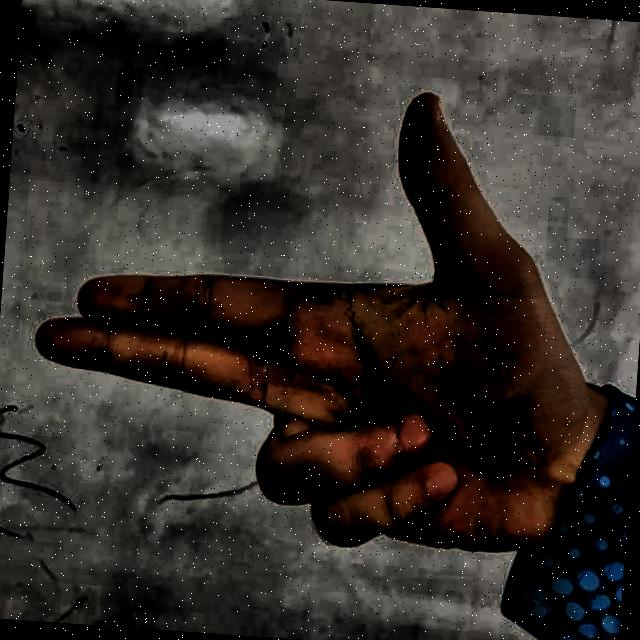Jha: (10, 22, 608, 630)
